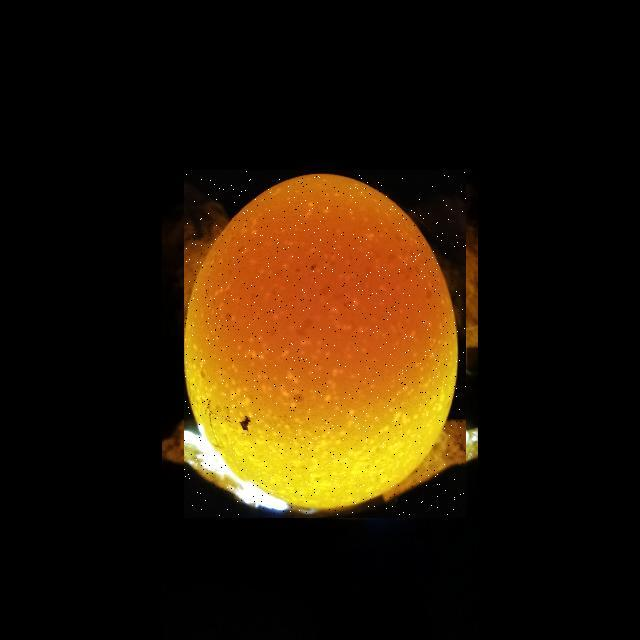Fertile: (184, 170, 466, 518)
